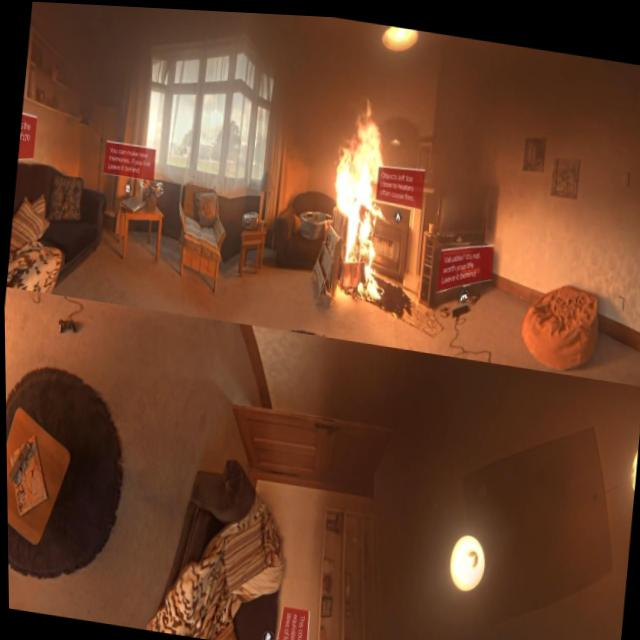fire: (320, 87, 403, 300)
